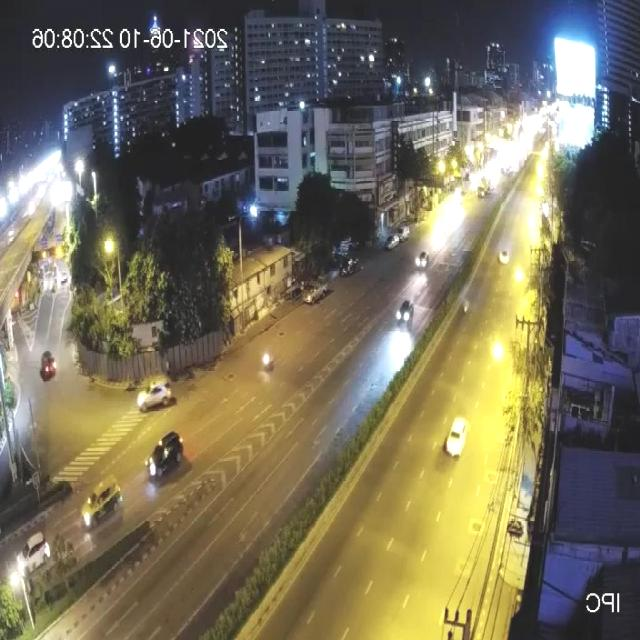Car: (79, 471, 125, 539), (144, 428, 183, 489), (15, 530, 51, 585), (135, 376, 173, 418), (444, 417, 470, 464), (37, 349, 61, 384), (395, 296, 415, 334), (414, 251, 431, 275), (496, 249, 511, 270)
Cycle: (262, 347, 276, 378)
